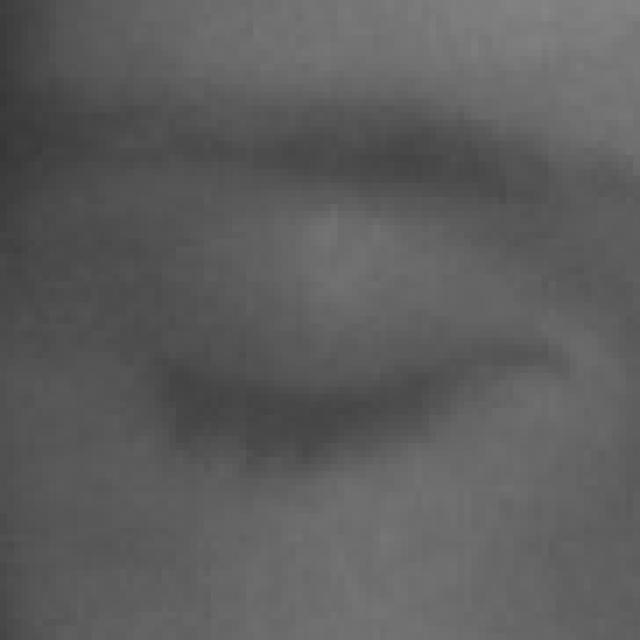Eyeclosed: (149, 207, 482, 588)
